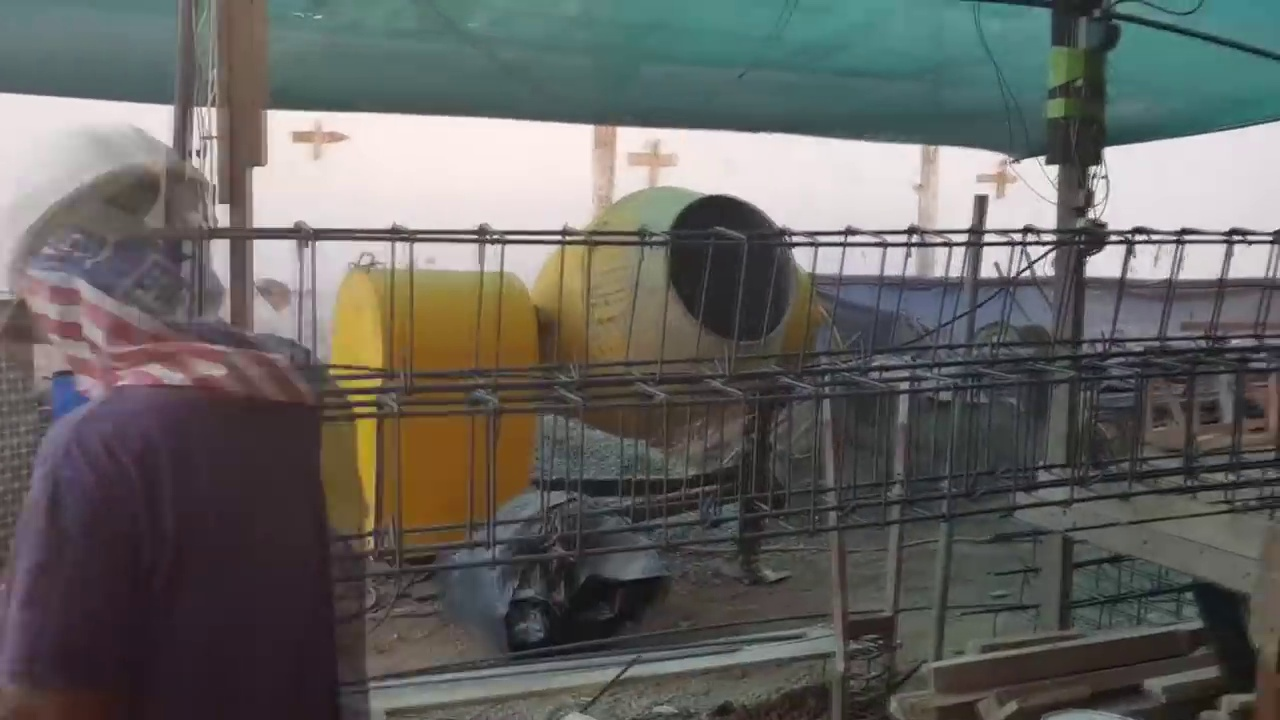helmet: (6, 113, 172, 278)
helmet-on: (4, 117, 245, 392)
person: (6, 117, 332, 718)
